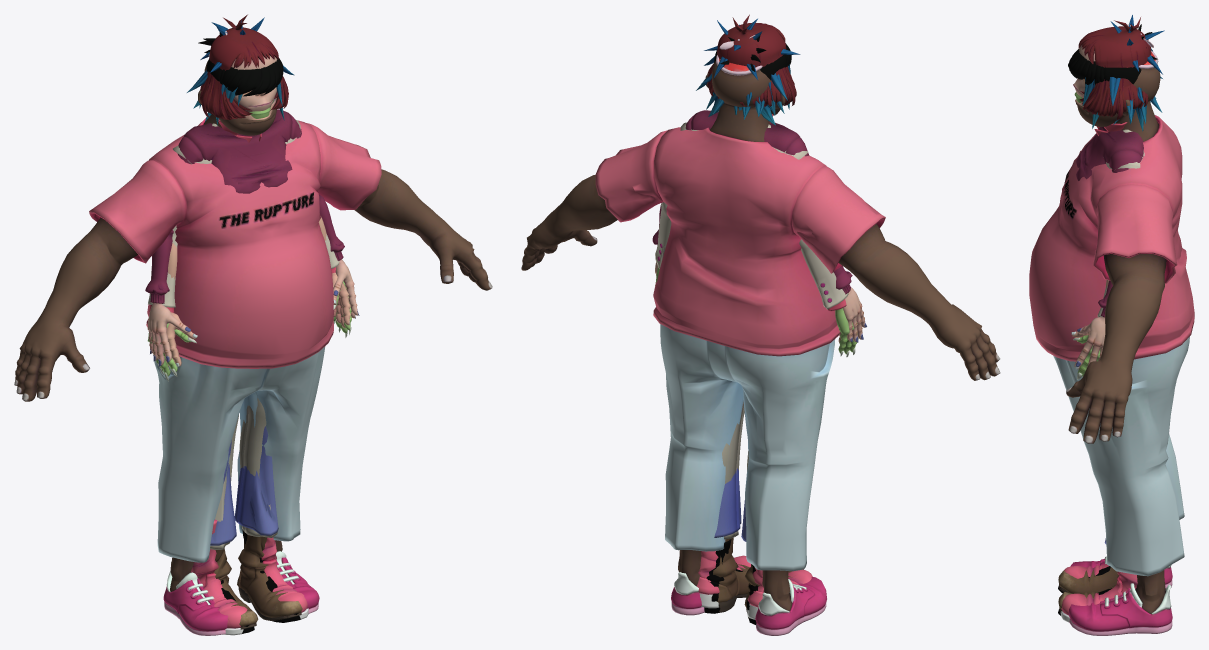
File: gorillaz-phase7.glb
3 views of the same model, side by side, from view 1: azimuth 30°, elevation 25°; view 2: azimuth 150°, elevation 25°; view 3: azimuth 270°, elevation 25° (orthographic).
Visible parts, largest first — view 1: russel_Russell_CasualClothes.smd, russel_Russell_Body_Cut.smd, noodle_NXA__Noodle_Noodle_Jumper_geo_001.smd, noodle_NXA__Noodle_noodle_hair_geo_001.smd, twod_TwoD_Pants_geo.smd, twod_TwoD_Boots_geo.smd, noodle_NXA__Noodle_Noodle_Boots_geo_001.smd, murdoc_Murdoc_SuitPants.smd, noodle_NXA__Noodle_Noodle_Body_geo_001.smd, murdoc_Murdoc_Hair.smd, twod_TwoD_Body_geo.smd, murdoc_Murdoc_SuitVest.smd (+4 smaller); view 2: russel_Russell_CasualClothes.smd, russel_Russell_Body_Cut.smd, russel_Russell_Head.smd, noodle_NXA__Noodle_noodle_hair_geo_001.smd, murdoc_Murdoc_SuitVest.smd, noodle_NXA__Noodle_Noodle_Jumper_geo_001.smd, noodle_NXA__Noodle_Noodle_Boots_geo_001.smd, twod_TwoD_HairFull_geo.smd, twod_TwoD_Boots_geo.smd, twod_TwoD_Pants_geo.smd, murdoc_Murdoc_SuitPants.smd, noodle_NXA__Noodle_Noodle_Body_geo_001.smd (+1 smaller); view 3: russel_Russell_CasualClothes.smd, russel_Russell_Body_Cut.smd, noodle_NXA__Noodle_noodle_hair_geo_001.smd, noodle_NXA__Noodle_Noodle_Jumper_geo_001.smd, russel_Russell_Head.smd, noodle_NXA__Noodle_Noodle_Boots_geo_001.smd, murdoc_Murdoc_Hair.smd, twod_TwoD_HairFull_geo.smd, twod_TwoD_Boots_geo.smd, noodle_NXA__Noodle_Noodle_Body_geo_001.smd, murdoc_Murdoc_Body.smd, noodle_NXA__Noodle_Noodle_Head1_geo_001.smd.
Part boxes in pixels (x1,y1,x2,y2): russel_Russell_CasualClothes.smd: (89,118,381,635); russel_Russell_Body_Cut.smd: (14,169,492,591); noodle_NXA__Noodle_Noodle_Jumper_geo_001.smd: (145,109,344,303); noodle_NXA__Noodle_noodle_hair_geo_001.smd: (200,14,288,119); twod_TwoD_Pants_geo.smd: (210,426,278,545); twod_TwoD_Boots_geo.smd: (214,535,302,629); noodle_NXA__Noodle_Noodle_Boots_geo_001.smd: (191,519,308,635); murdoc_Murdoc_SuitPants.smd: (210,398,277,549); noodle_NXA__Noodle_Noodle_Body_geo_001.smd: (147,259,359,366); murdoc_Murdoc_Hair.smd: (198,25,283,96); twod_TwoD_Body_geo.smd: (165,217,350,370); murdoc_Murdoc_SuitVest.smd: (148,120,339,312); russel_Russell_CasualClothes.smd: (595,127,885,635); russel_Russell_Body_Cut.smd: (521,175,1000,611); russel_Russell_Head.smd: (705,61,785,141); noodle_NXA__Noodle_noodle_hair_geo_001.smd: (707,14,796,106); murdoc_Murdoc_SuitVest.smd: (655,122,848,311); noodle_NXA__Noodle_Noodle_Jumper_geo_001.smd: (652,110,852,294); noodle_NXA__Noodle_Noodle_Boots_geo_001.smd: (696,551,812,619); twod_TwoD_HairFull_geo.smd: (696,18,800,125); twod_TwoD_Boots_geo.smd: (713,537,792,618); twod_TwoD_Pants_geo.smd: (714,468,746,541); murdoc_Murdoc_SuitPants.smd: (722,401,748,539); noodle_NXA__Noodle_Noodle_Body_geo_001.smd: (655,261,866,342); russel_Russell_CasualClothes.smd: (1029,115,1194,635); russel_Russell_Body_Cut.smd: (1066,254,1166,614); noodle_NXA__Noodle_noodle_hair_geo_001.smd: (1078,17,1153,120); noodle_NXA__Noodle_Noodle_Jumper_geo_001.smd: (1076,127,1143,317); russel_Russell_Head.smd: (1076,64,1160,141); noodle_NXA__Noodle_Noodle_Boots_geo_001.smd: (1060,564,1137,622); murdoc_Murdoc_Hair.smd: (1068,24,1157,85); twod_TwoD_HairFull_geo.smd: (1082,15,1164,131); twod_TwoD_Boots_geo.smd: (1058,567,1119,611); noodle_NXA__Noodle_Noodle_Body_geo_001.smd: (1075,316,1105,367); murdoc_Murdoc_Body.smd: (1073,335,1100,379); noodle_NXA__Noodle_Noodle_Head1_geo_001.smd: (1073,45,1095,97).
Bounding box in the file's own units: 1.2 × 1.44 × 0.3672.
4 materials, 4 textured.
